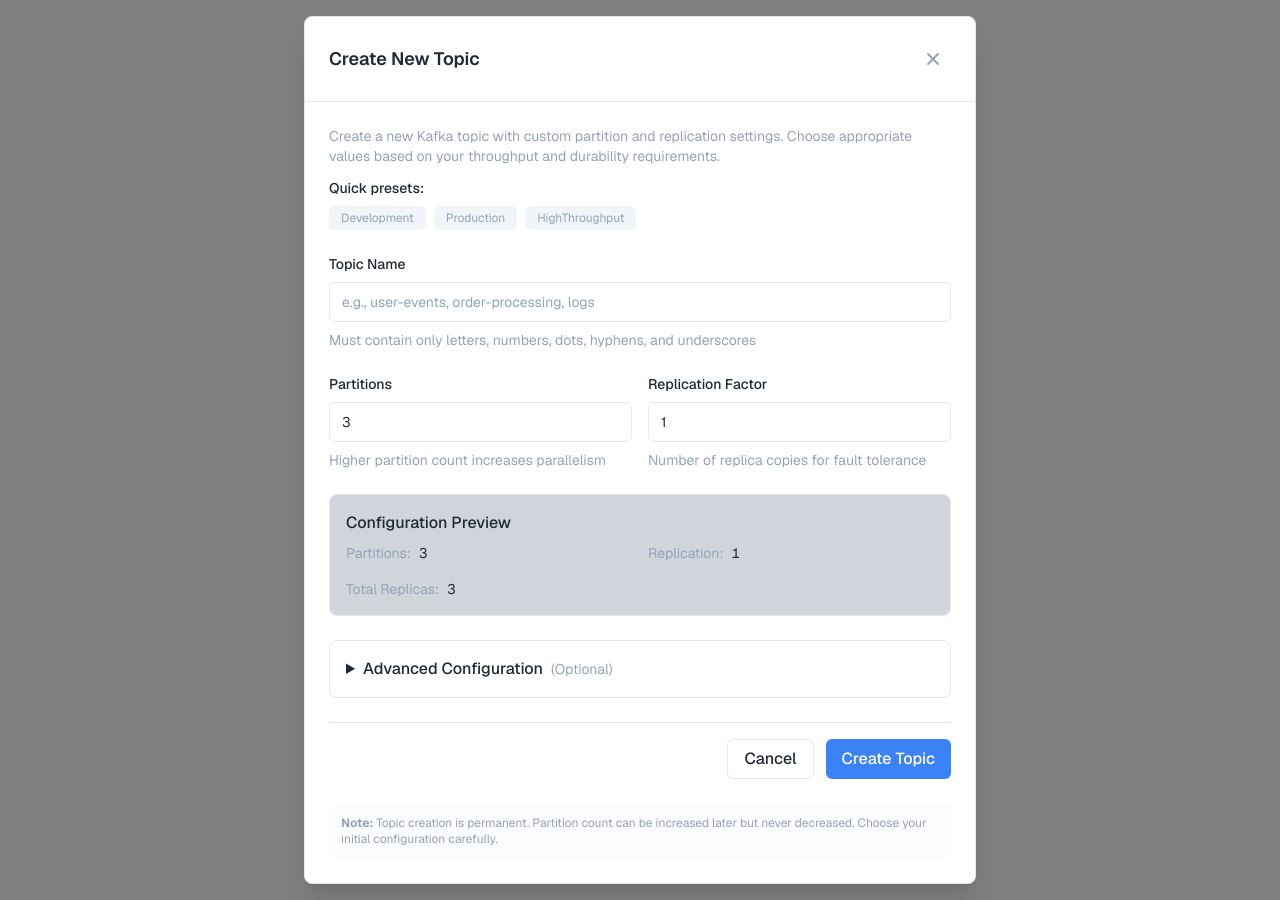
Test: CreateTopicModal › should apply development preset correctly
Note: Click development preset
Click the button "Development". click: (377,218)
box: x1=329 y1=206 x2=426 y2=230
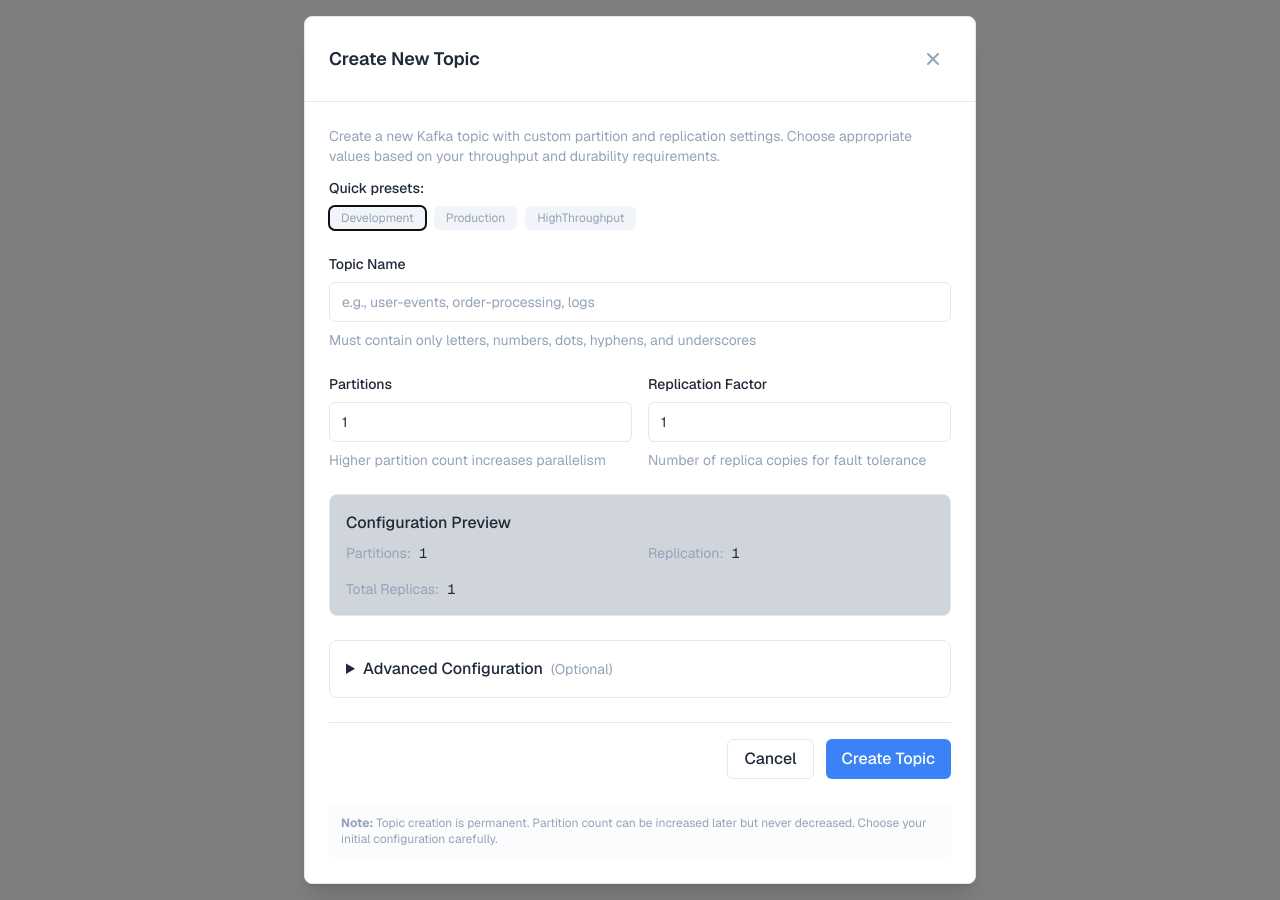
Expected: the number field labelled "Replication Factor" holds "1", x1=648 y1=402 x2=951 y2=442
Result: the number field labelled "Partitions" holds "1" at x1=329 y1=402 x2=632 y2=442
